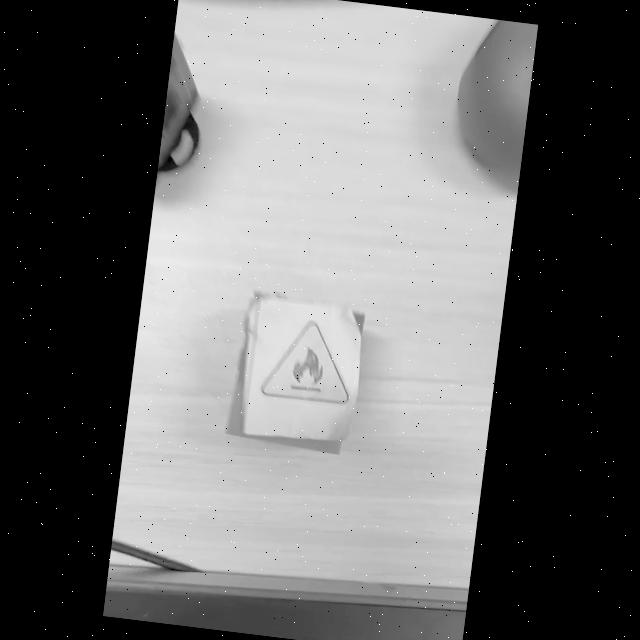Fire: (261, 321, 348, 403)
